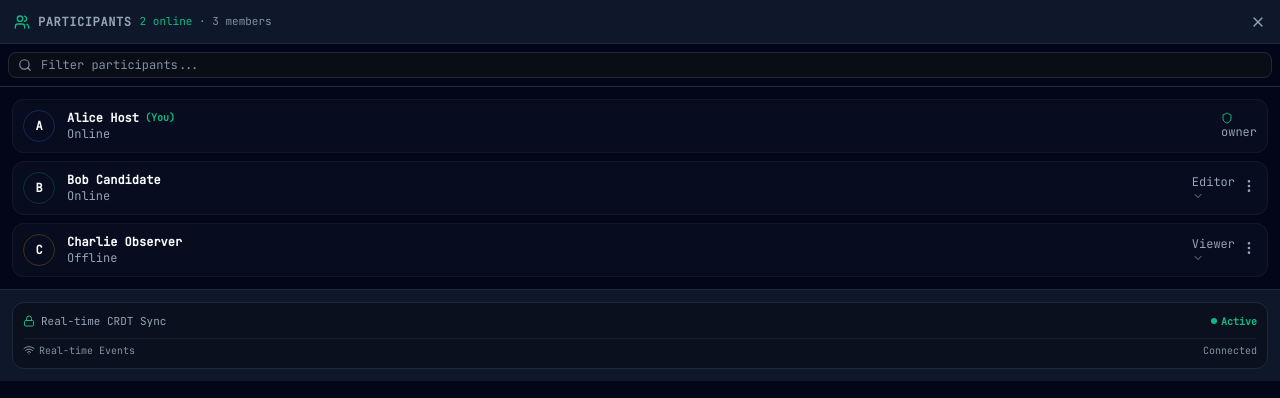
Test: MembersPanel component › renders interactive role dropdown for owners on non-owners and calls onUpdateRole
This screenshot has width=1280, height=398.
Later steps or results of the test are not shown.
Note: Open dropdown
Click the button with test id "role-dropdown-mem-2" at [1213, 188], box [1192,174,1235,202]
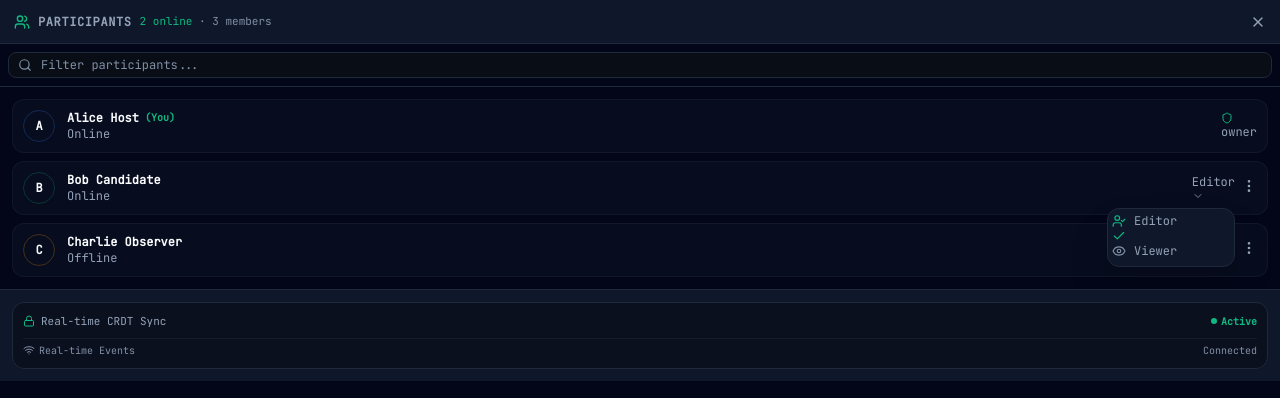
Now the button with test id "role-option-viewer-mem-2" is shown, box [1112,243,1177,259]
